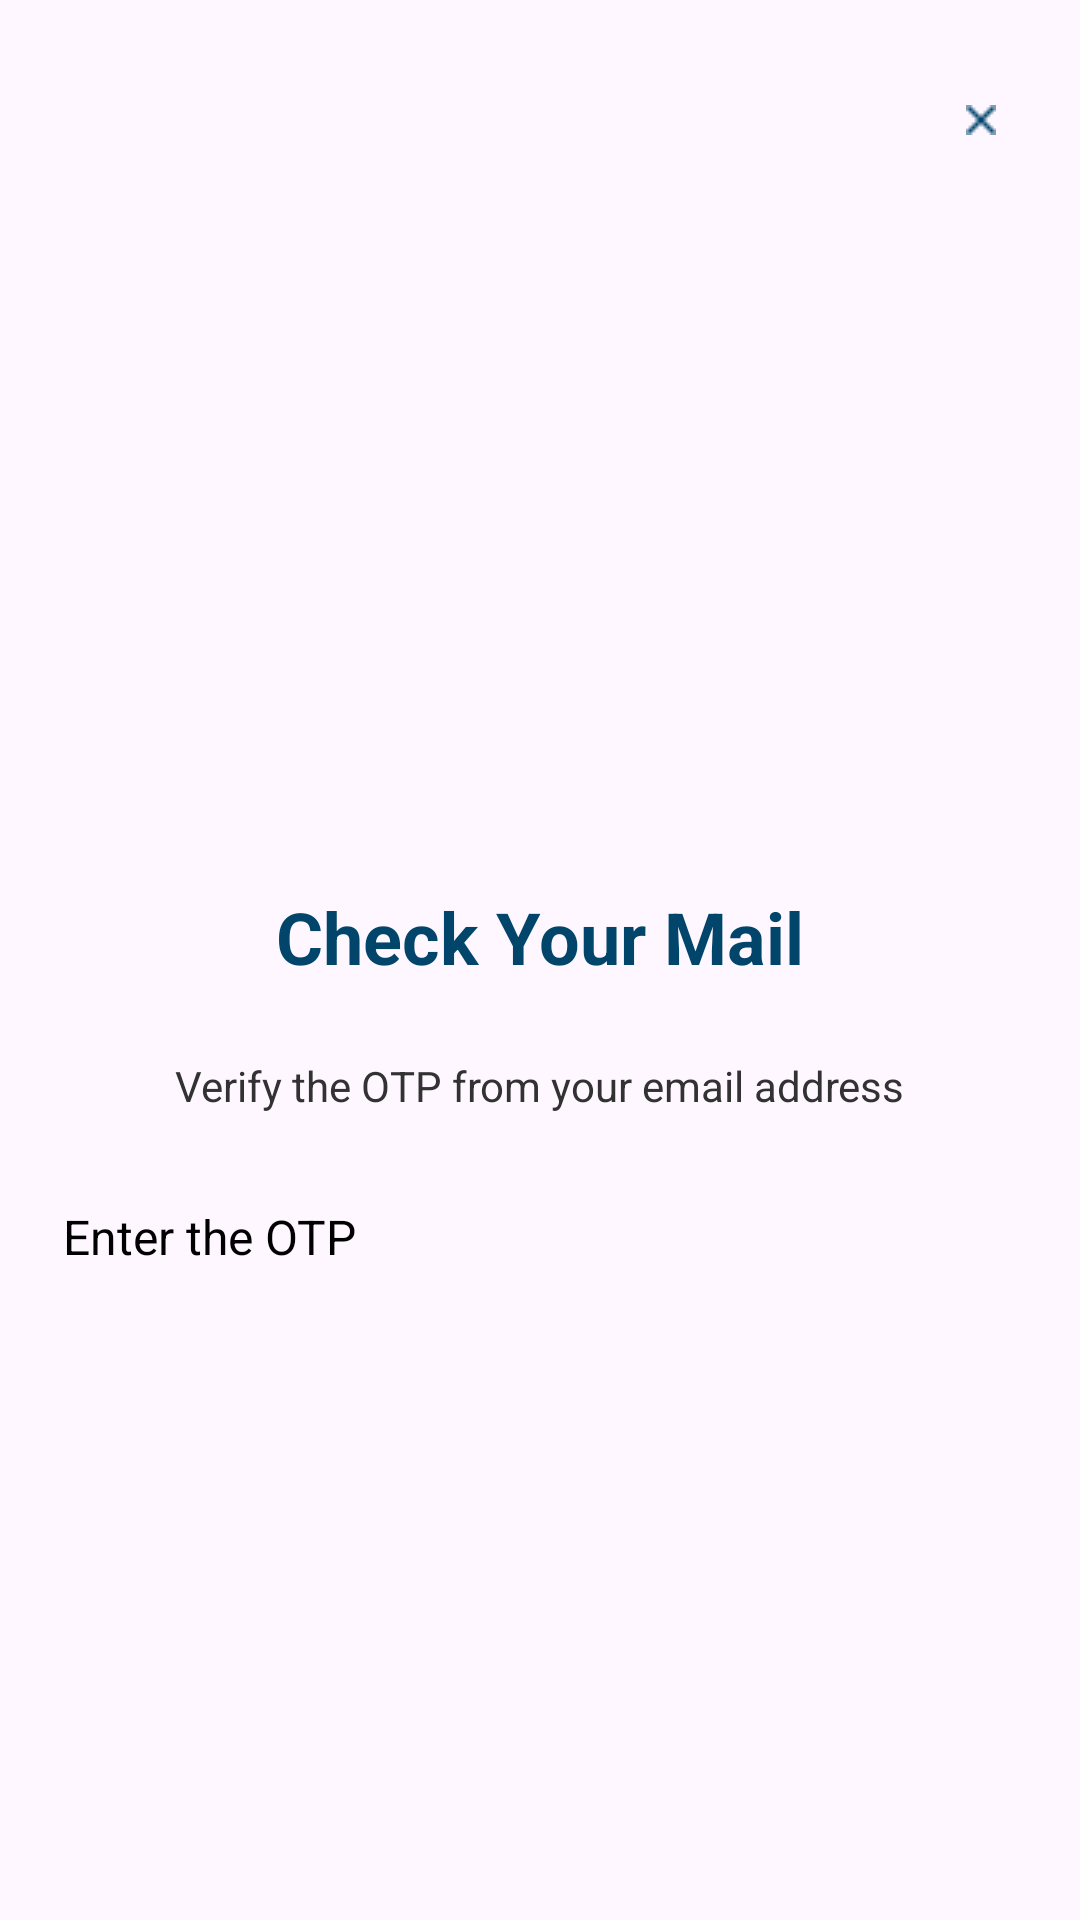

Icons on this 1080 × 1920 Android screen, each with its box as (x1, y1, x2, y2):
cancel: (966, 105, 996, 135)
